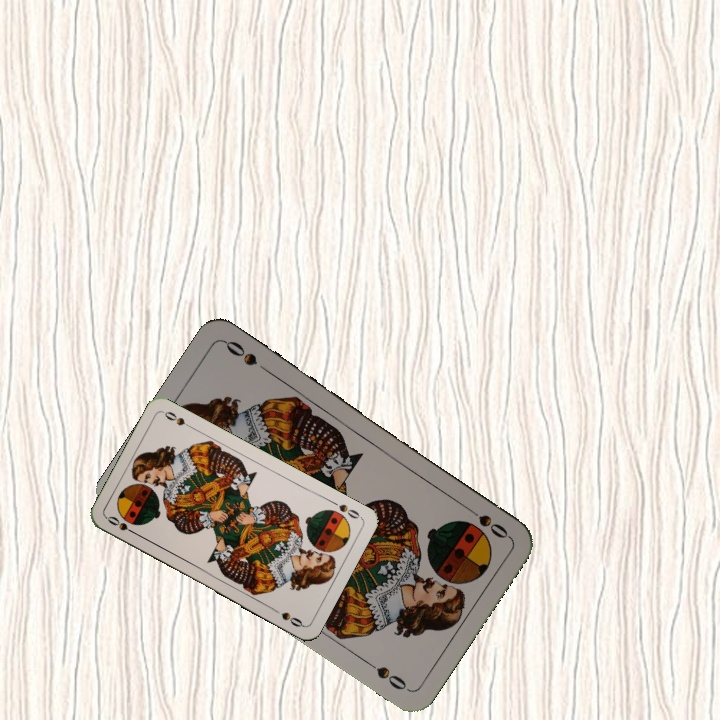SO: (460, 501, 511, 542), (103, 512, 141, 538), (326, 496, 364, 522)
